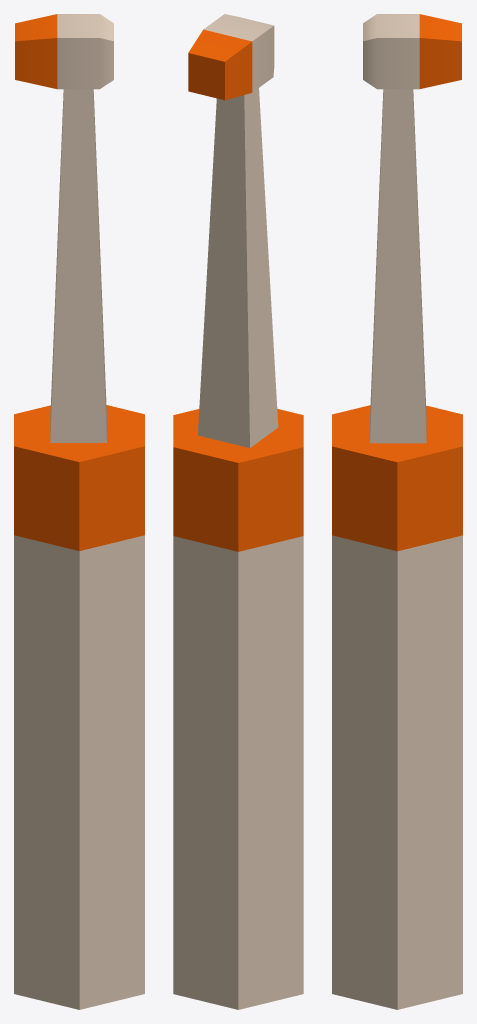
File: wind_turbine_tower.obj
3 views of the same model, side by side, from view 1: azimuth 90°, elevation 25°; view 2: azimuth 150°, elevation 25°; view 3: azimuth 270°, elevation 25° (orthographic).
Parts seen in each view (by area): view 1: polySurface34; view 2: polySurface34; view 3: polySurface34.
Boxes of the visible parts, x1,y1,x2,y2 form: polySurface34: [14, 14, 144, 1009]; polySurface34: [173, 14, 303, 1009]; polySurface34: [332, 14, 462, 1009].
Size of the model in its own units: 20 by 139 by 17.32.
